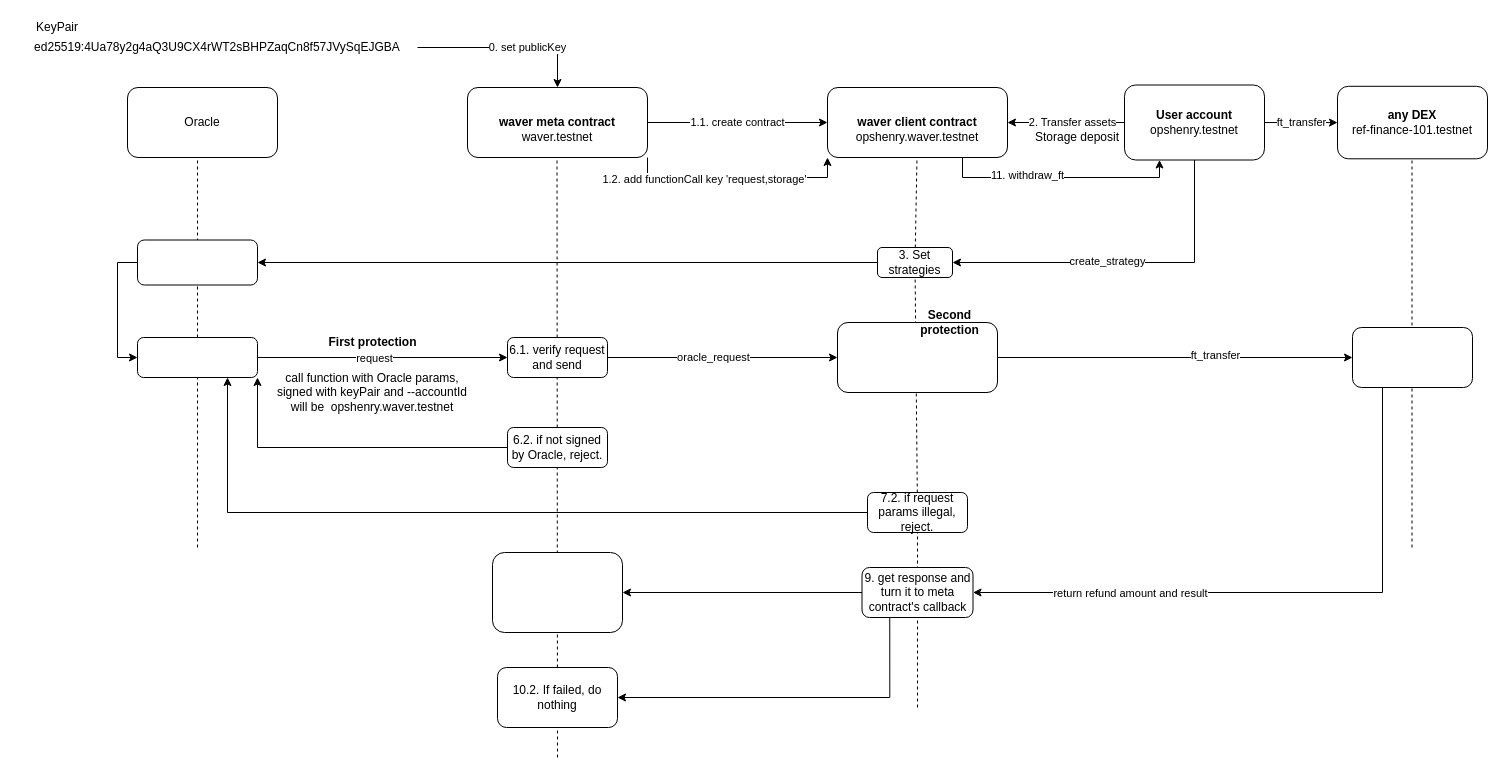
The diagram is 1505 pixels wide and 776 high, and some of its shapes have lost their labels. The box of each missing label's shape, as (x1, y1, x2, y2) in pixels:
10.1. If success, transfer user's $WAVER to team account: (492, 552, 622, 632)
4. receive strategies from indexer: (136, 239, 258, 285)
5. trigger trading from one strategy: (136, 336, 258, 378)
7.1. verify oracle request according to the strategy saved in smart contract: (836, 322, 998, 392)
8. call DEX function and trade tokens: (1352, 326, 1472, 388)
